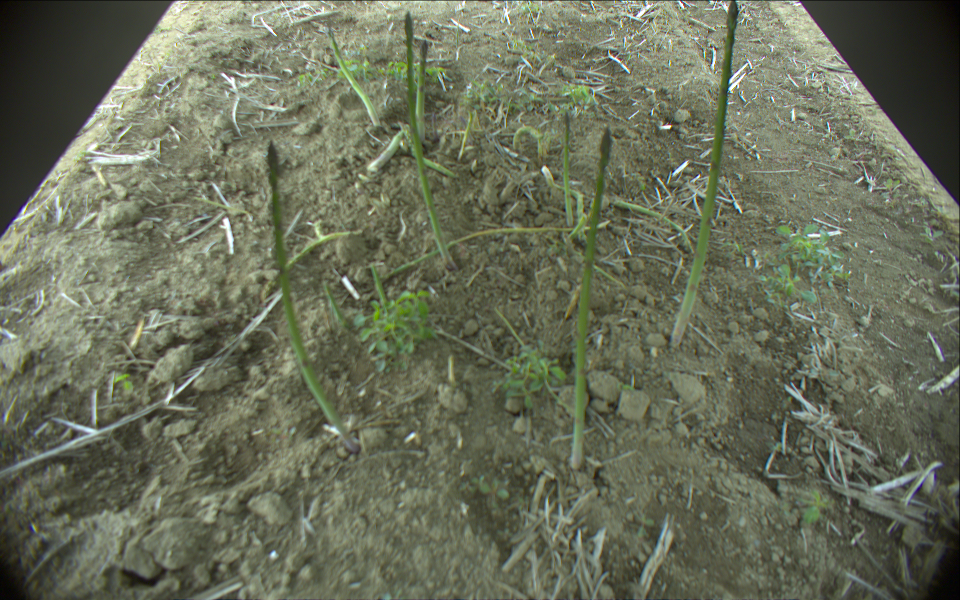aspa: (266, 142, 363, 453), (668, 1, 740, 345), (568, 126, 617, 468), (374, 214, 612, 284), (401, 12, 460, 271), (322, 26, 382, 125), (610, 196, 694, 254), (283, 227, 365, 276), (402, 124, 460, 182), (539, 167, 588, 235), (412, 40, 429, 150), (367, 126, 404, 173), (561, 112, 574, 223), (513, 123, 544, 163), (323, 279, 342, 330), (371, 266, 392, 311), (456, 109, 475, 158)
